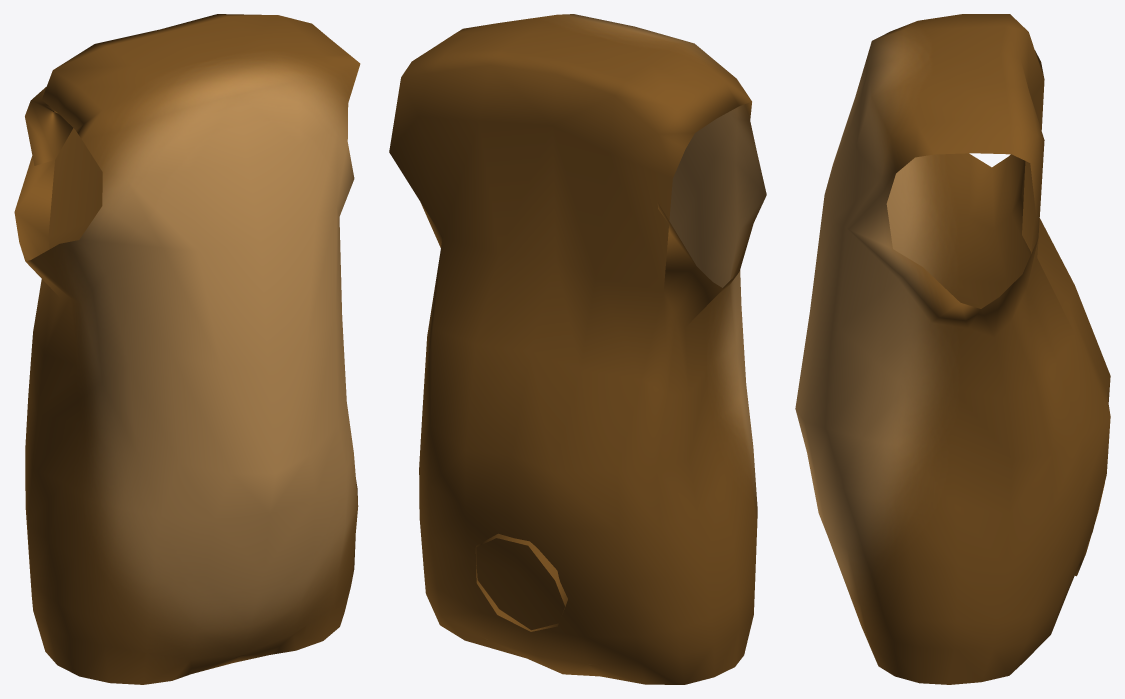
The model's file is Torso.fbx.
The picture shows the model from 3 angles, left to right: view 1: azimuth 30°, elevation 25°; view 2: azimuth 150°, elevation 25°; view 3: azimuth 270°, elevation 25°; orthographic projection. The views are drawn at different scales.
Parts seen in each view (by area): view 1: monkey; view 2: monkey; view 3: monkey.
Boxes of the visible parts, <box> form: monkey: <box>14,14,360,684</box>; monkey: <box>389,14,766,684</box>; monkey: <box>795,14,1110,684</box>.
Bounding box in the file's own units: 95.39 × 176 × 86.24.
Materials: 2 (2 with a texture image).
